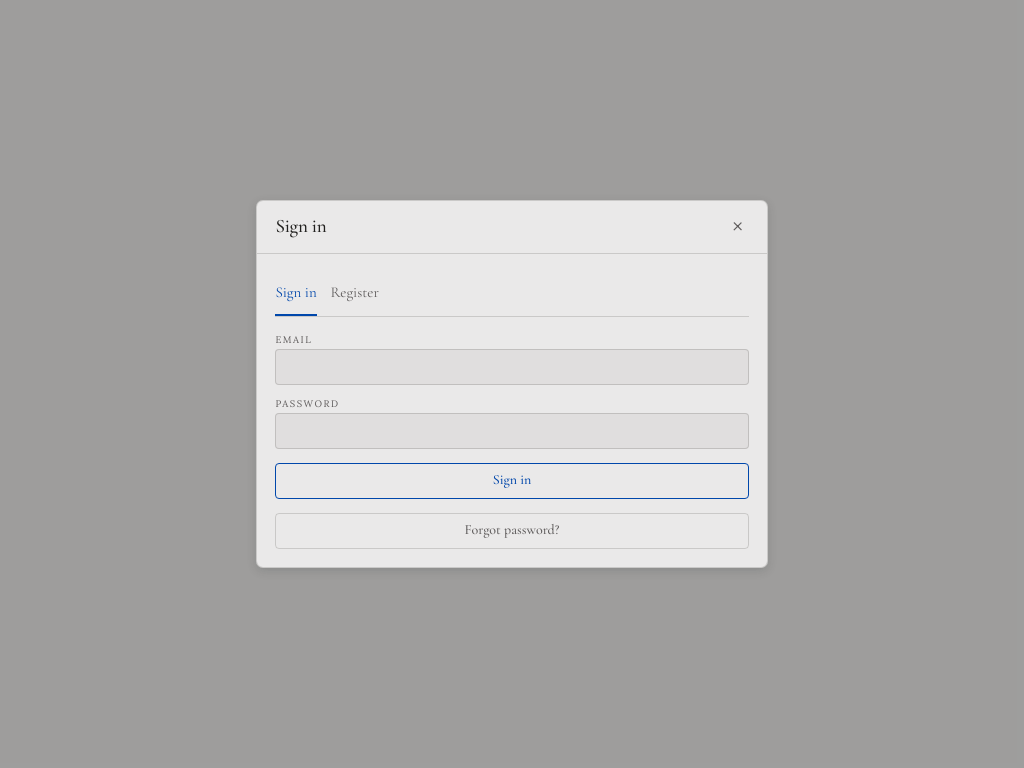
Test case: registering › offers a correction with both answers equally available
Click the tab "Register" at (355, 294), box [330,272,379,316]
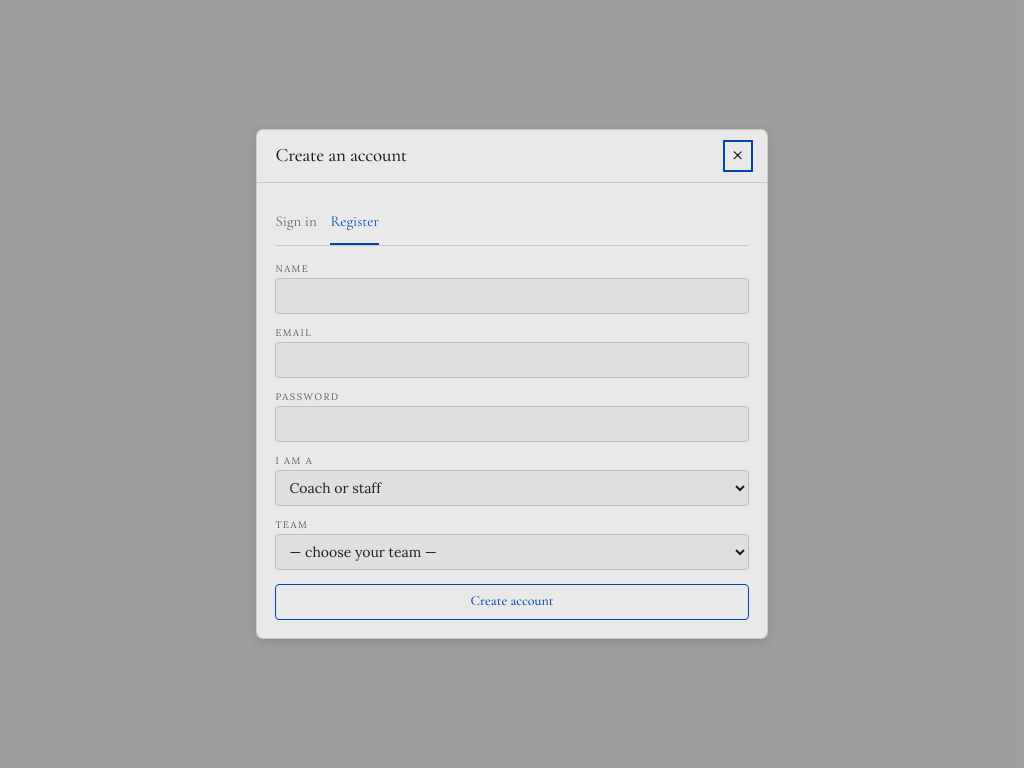
Type "A Coach" into the field labelled "Name" at (512, 296), box [275,278,749,314]
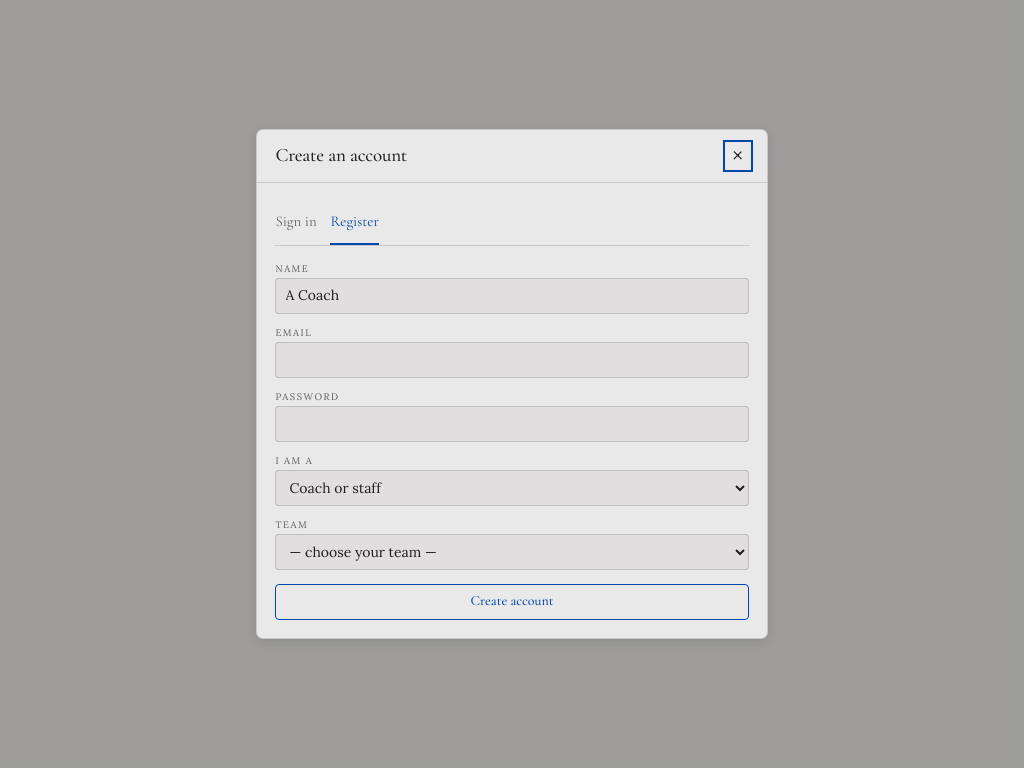
Type "coach@gmial.com" into the field labelled "Email" at (512, 360), box [275,342,749,378]
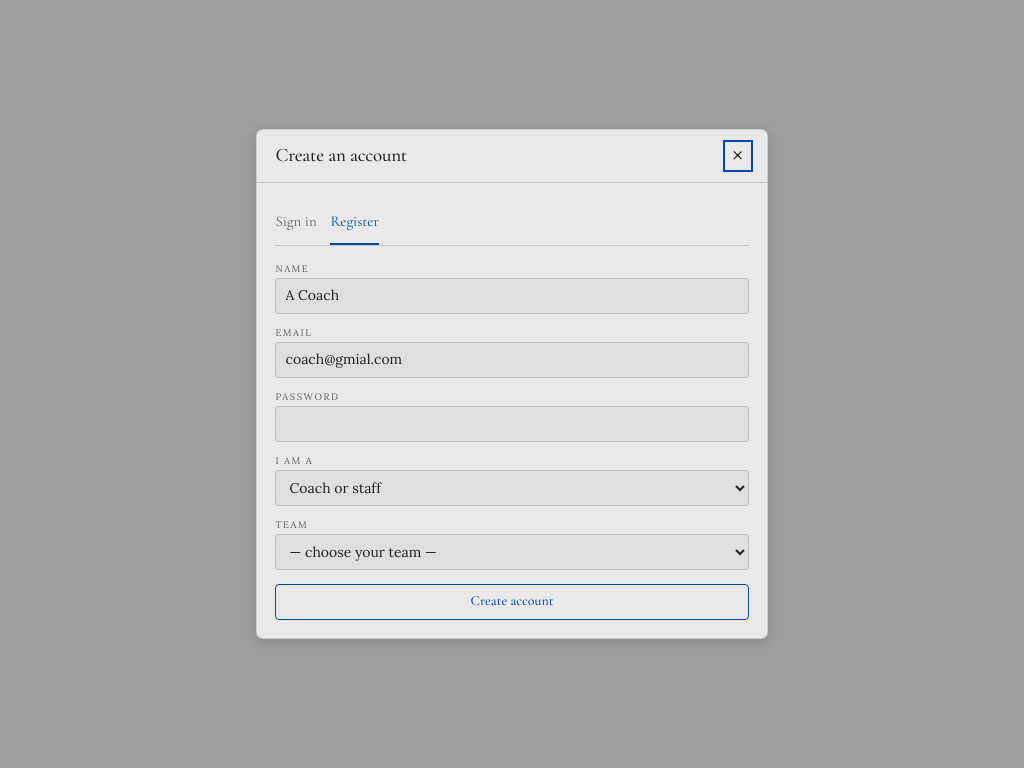
Type "secret123" into the password field labelled "Password" at (512, 424), box [275,406,749,442]
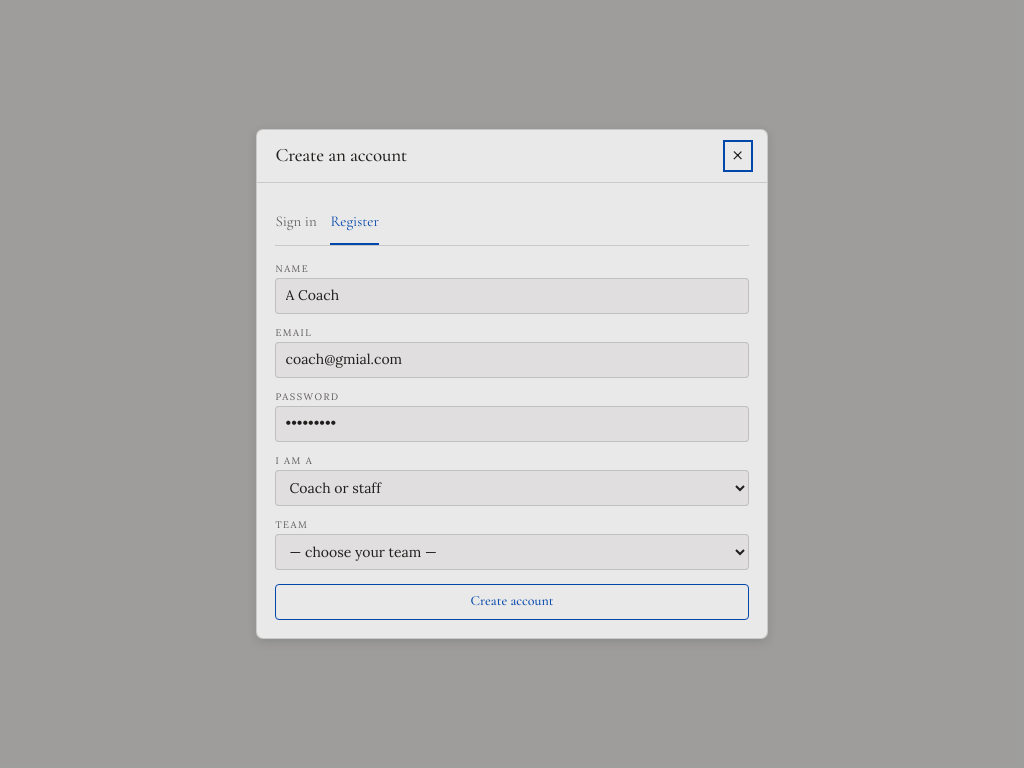
Select "Fan or parent — public pages only" in the dropdown labelled "I am a" at (512, 488), box [275,470,749,506]
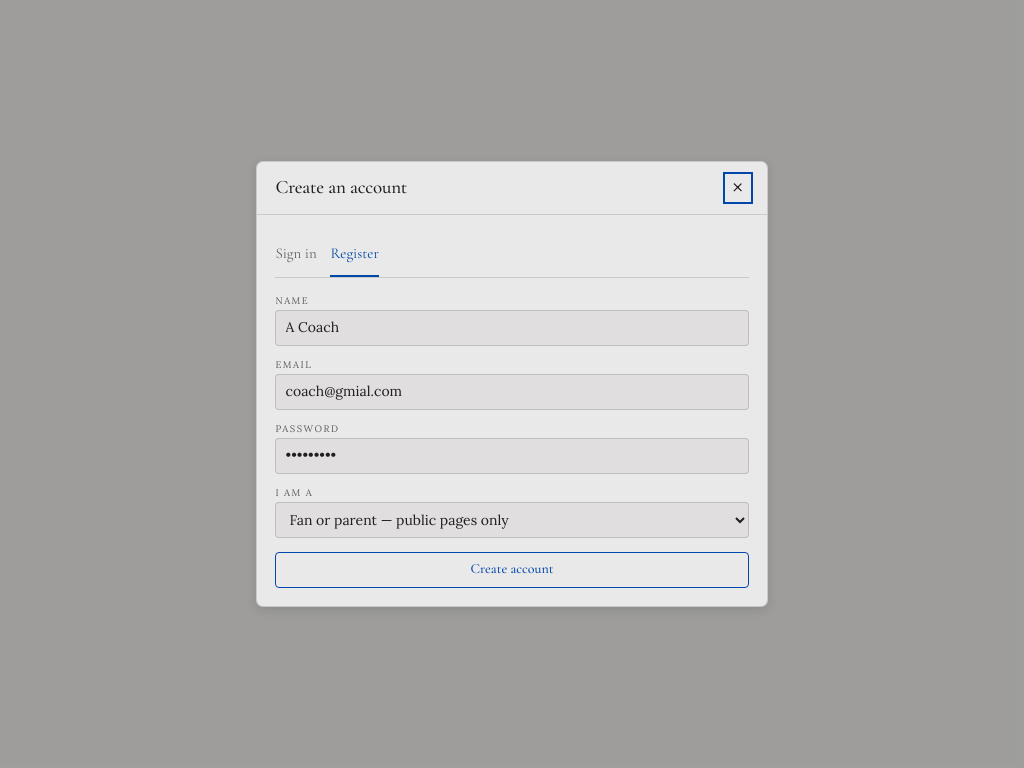
Submit the form, box [275,296,749,588]
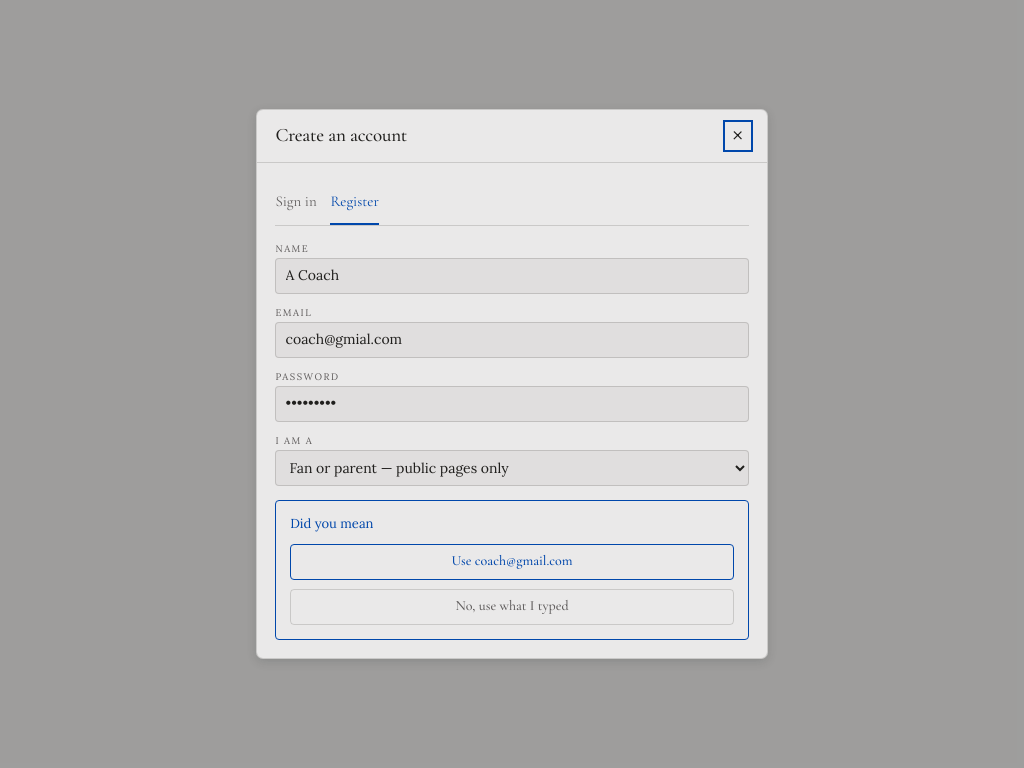
expect the button "Use coach@gmail.com" is shown: met, box [290,544,734,580]
expect the button "No, use what I typed" is shown: met, box [290,589,734,625]
